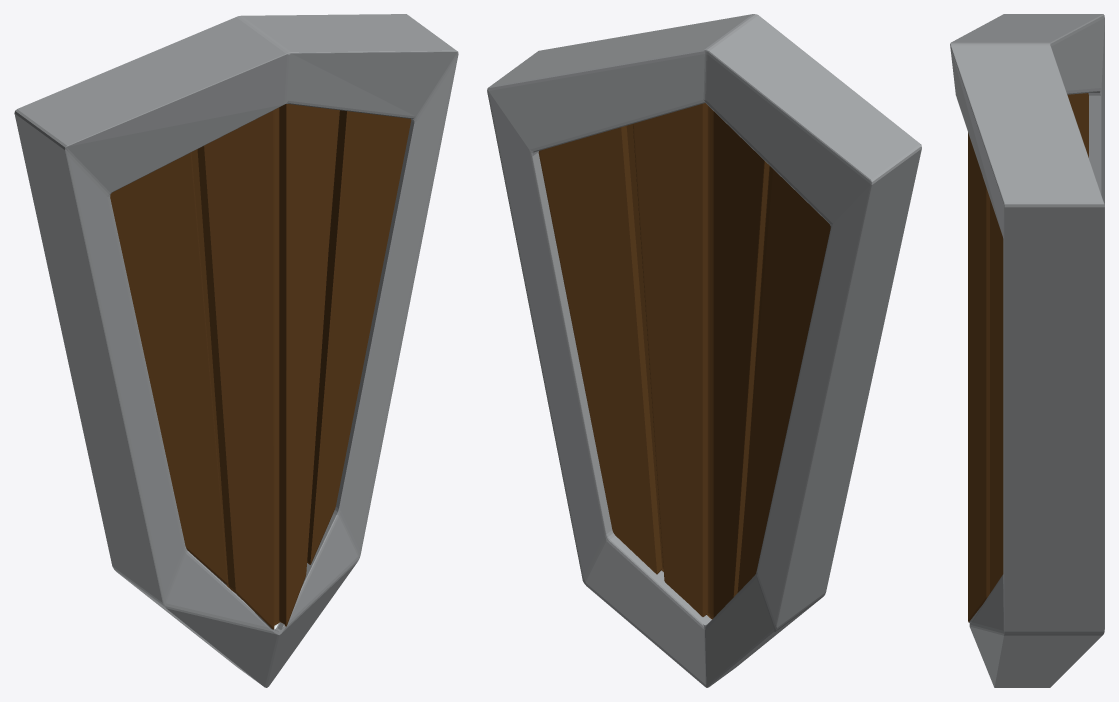
Rendered from bs-shield-1.fbx.
3 renders of one model, left to right at view 1: azimuth 30°, elevation 25°; view 2: azimuth 150°, elevation 25°; view 3: azimuth 270°, elevation 25°, orthographic. The views are drawn at different scales.
Visible parts, largest first — view 1: Cube.208; view 2: Cube.208; view 3: Cube.208.
Boxes of the visible parts, x1=… form: Cube.208: x1=14, y1=14, x2=458, y2=687; Cube.208: x1=487, y1=14, x2=921, y2=687; Cube.208: x1=950, y1=14, x2=1104, y2=687.
Size of the model in its own units: 129 by 204 by 44.44.
